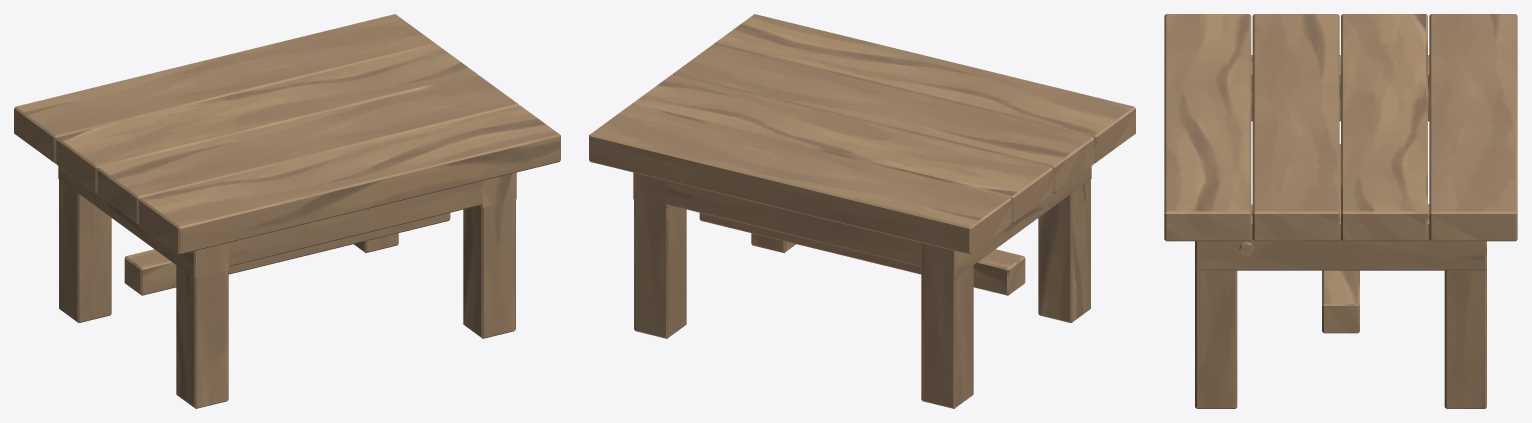
Rendered from F04_low_work_table.fbx.
3 views of the same model, side by side, from view 1: azimuth 30°, elevation 25°; view 2: azimuth 150°, elevation 25°; view 3: azimuth 270°, elevation 25° (orthographic). The views are drawn at different scales.
Parts seen in each view (by area): view 1: F04_Lowworktable; view 2: F04_Lowworktable; view 3: F04_Lowworktable.
Part boxes in pixels (x1,y1,x2,y2): F04_Lowworktable: (14,14,560,408); F04_Lowworktable: (589,14,1135,408); F04_Lowworktable: (1164,14,1517,408).
Bounding box in the file's own units: 1 × 0.5 × 0.75.
